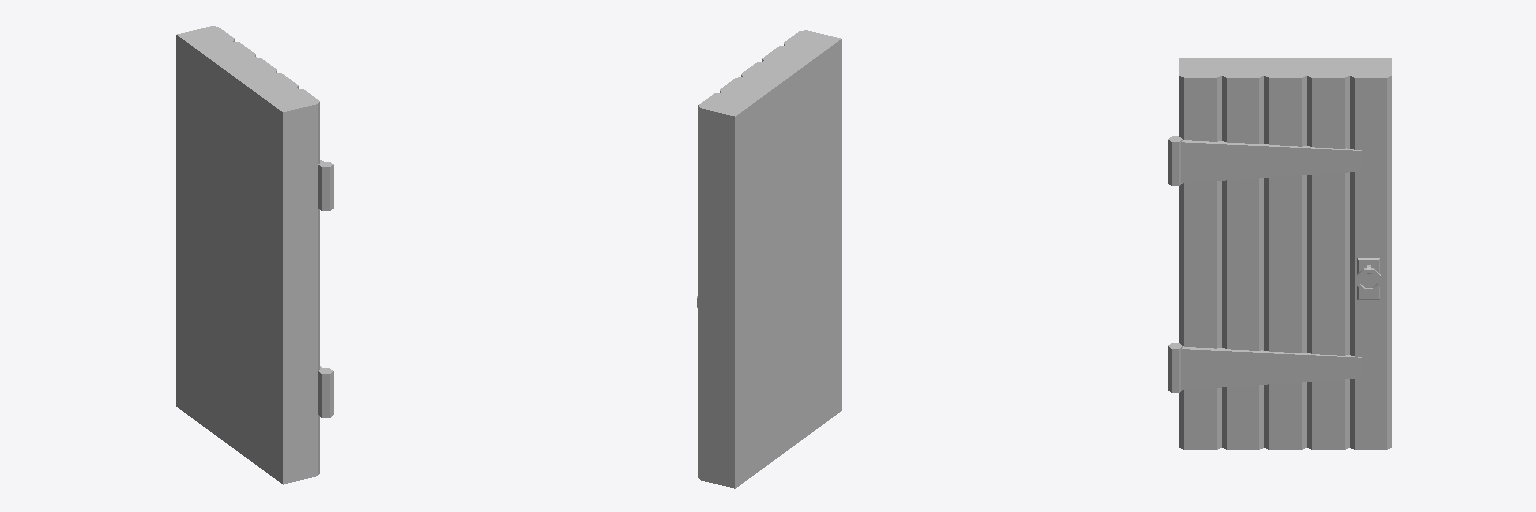
File: door.obj
The picture shows the model from 3 angles: view 1: azimuth 30°, elevation 25°; view 2: azimuth 150°, elevation 25°; view 3: azimuth 270°, elevation 25°; orthographic projection.
Visible parts, largest first — view 1: group2 Wall_Prop_Door_Simple1:object4, group2 Wall_Prop_Door_Simple1:object2, group2 Wall_Prop_Door_Simple1:object1; view 2: group2 Wall_Prop_Door_Simple1:object4; view 3: group2 Wall_Prop_Door_Simple1:object4, group2 Wall_Prop_Door_Simple1:object2, group2 Wall_Prop_Door_Simple1:object1, group2 Wall_Prop_Door_Simple1:object3.
Boxes of the visible parts, x1=… form: group2 Wall_Prop_Door_Simple1:object4: x1=176, y1=26, x2=319, y2=484; group2 Wall_Prop_Door_Simple1:object2: x1=318, y1=366, x2=333, y2=417; group2 Wall_Prop_Door_Simple1:object1: x1=318, y1=160, x2=333, y2=210; group2 Wall_Prop_Door_Simple1:object4: x1=698, y1=30, x2=841, y2=488; group2 Wall_Prop_Door_Simple1:object4: x1=1179, y1=58, x2=1391, y2=449; group2 Wall_Prop_Door_Simple1:object2: x1=1168, y1=343, x2=1361, y2=392; group2 Wall_Prop_Door_Simple1:object1: x1=1168, y1=136, x2=1361, y2=185; group2 Wall_Prop_Door_Simple1:object3: x1=1357, y1=258, x2=1379, y2=299.
Size of the model in its own units: 0.4448 by 3.38 by 1.84.